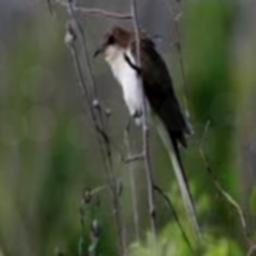Cuckoo: (93, 23, 204, 245)
